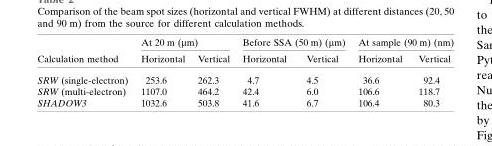table: (36, 36, 453, 107)
table column: (36, 36, 133, 107), (235, 36, 295, 107), (351, 36, 409, 107), (133, 36, 190, 107), (295, 36, 351, 107), (190, 36, 235, 107), (409, 36, 453, 107)
table column header: (36, 36, 453, 69)
table row: (36, 50, 453, 69), (36, 69, 453, 85), (36, 36, 453, 50), (36, 85, 453, 97), (36, 97, 453, 107)
table spanning cell: (36, 36, 133, 69), (235, 36, 351, 50), (133, 36, 235, 50), (351, 36, 453, 50)
